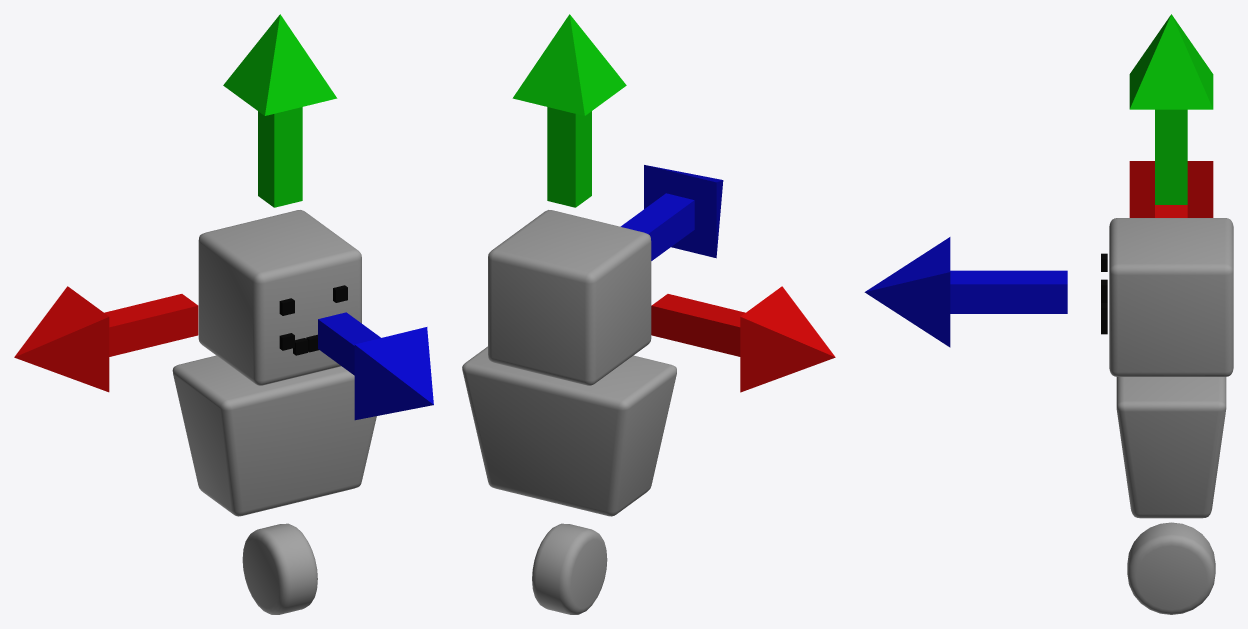
Rendered from Robo.fbx.
The picture shows the model from 3 angles, left to right: view 1: azimuth 30°, elevation 25°; view 2: azimuth 150°, elevation 25°; view 3: azimuth 270°, elevation 25°; orthographic projection.
Visible parts, largest first — view 1: Body, Head, Positive_Y, Positive_X, Positive_Z, Wheel; view 2: Body, Head, Positive_Y, Positive_X, Positive_Z, Wheel; view 3: Head, Body, Positive_Z, Positive_Y, Wheel, Positive_X.
Boxes of the visible parts, left/top/right/bottom form: Body: left=172, top=355, right=376, bottom=516; Head: left=198, top=210, right=361, bottom=385; Positive_Y: left=223, top=14, right=337, bottom=207; Positive_X: left=14, top=286, right=198, bottom=392; Positive_Z: left=318, top=312, right=433, bottom=420; Wheel: left=242, top=523, right=317, bottom=614; Body: left=462, top=346, right=676, bottom=516; Head: left=488, top=210, right=651, bottom=385; Positive_Y: left=512, top=14, right=626, bottom=207; Positive_X: left=651, top=286, right=835, bottom=392; Positive_Z: left=620, top=165, right=723, bottom=260; Wheel: left=532, top=523, right=607, bottom=614; Head: left=1101, top=218, right=1233, bottom=376; Body: left=1116, top=377, right=1226, bottom=518; Positive_Z: left=864, top=237, right=1067, bottom=347; Positive_Y: left=1129, top=14, right=1213, bottom=204; Wheel: left=1127, top=522, right=1215, bottom=614; Positive_X: left=1129, top=161, right=1213, bottom=217.
Size of the model in its own units: 60.02 by 97.75 by 54.99.
